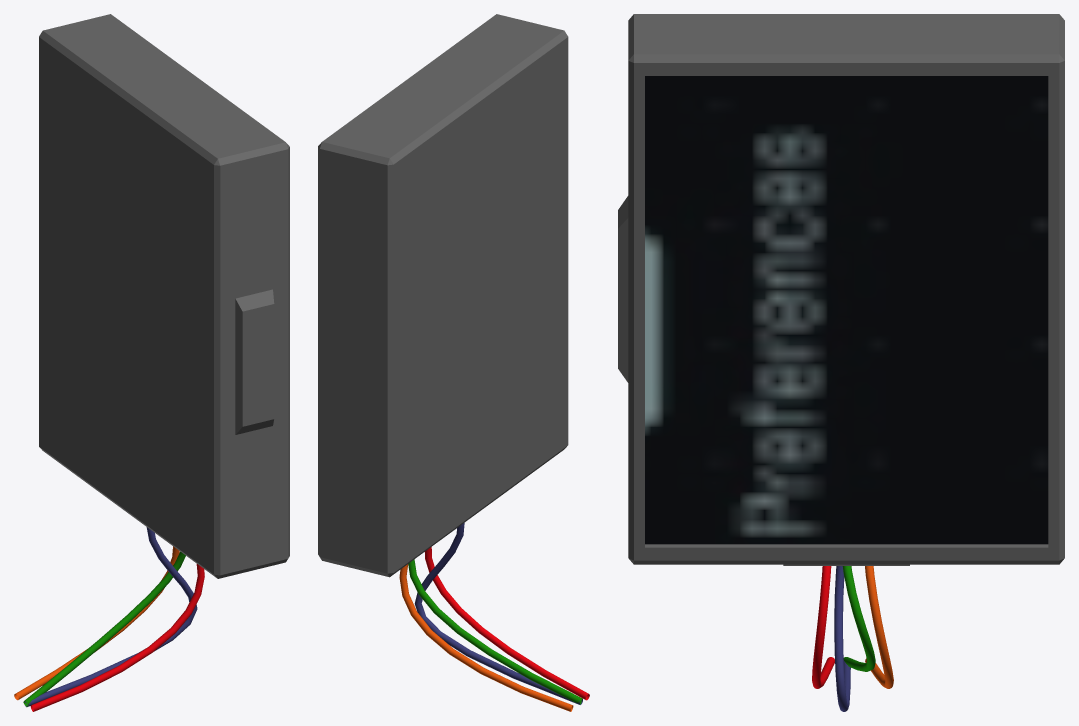
File: LabScreen.fbx
3 renders of one model, left to right at view 1: azimuth 30°, elevation 25°; view 2: azimuth 150°, elevation 25°; view 3: azimuth 270°, elevation 25°, orthographic. The views are drawn at different scales.
Parts seen in each view (by area): view 1: Cube, BezierCurve.002, BezierCurve.003, BezierCurve, BezierCurve.001; view 2: Cube, BezierCurve.001, BezierCurve, BezierCurve.003, BezierCurve.002; view 3: Cube, BezierCurve, BezierCurve.002, BezierCurve.001, BezierCurve.003.
Boxes of the visible parts, box(x1,y1,x2,y2) form: Cube: box(39, 14, 289, 578); BezierCurve.002: box(30, 564, 204, 711); BezierCurve.003: box(23, 551, 185, 706); BezierCurve: box(24, 527, 197, 707); BezierCurve.001: box(14, 546, 179, 700); Cube: box(318, 14, 568, 577); BezierCurve.001: box(399, 564, 573, 711); BezierCurve: box(414, 523, 582, 704); BezierCurve.003: box(408, 559, 582, 704); BezierCurve.002: box(425, 547, 589, 700); Cube: box(618, 14, 1064, 565); BezierCurve: box(834, 566, 850, 711); BezierCurve.002: box(812, 566, 834, 688); BezierCurve.001: box(865, 566, 893, 688); BezierCurve.003: box(842, 566, 875, 671).
Bounding box in the file's own units: 114 × 360 × 205.
